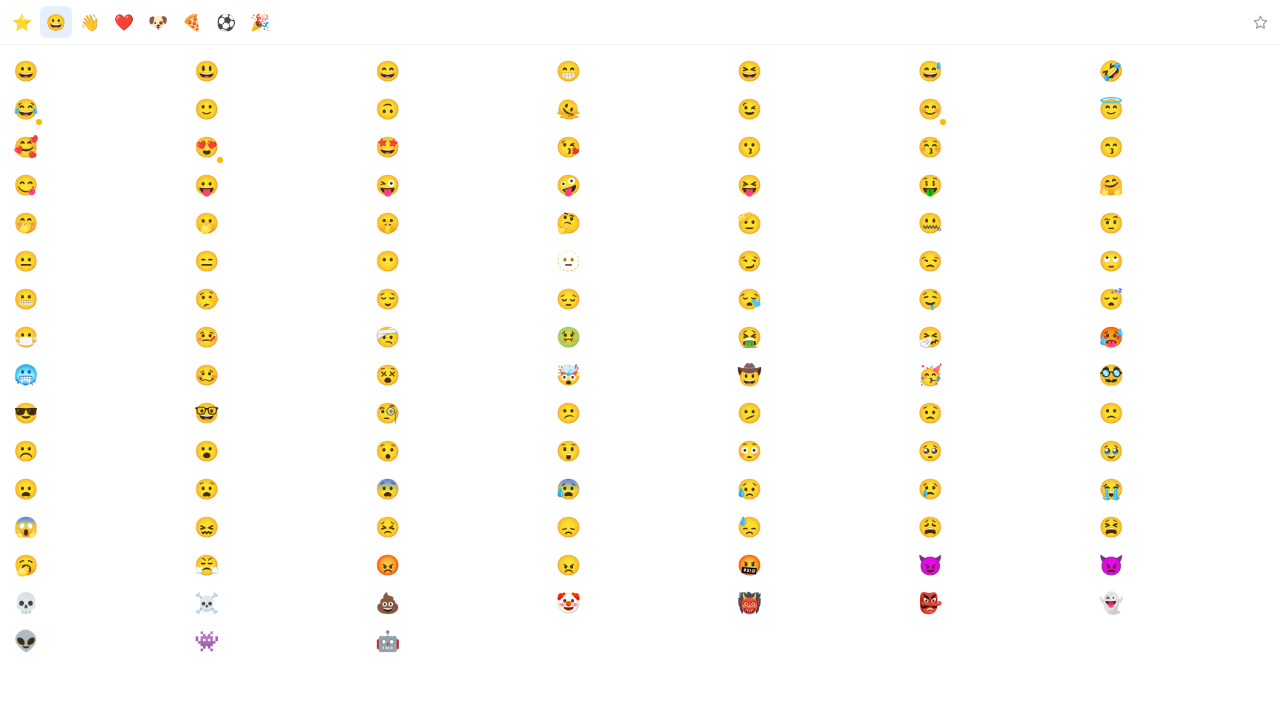
Scenario: EmojiPicker › switches to favorites tab and renders default favorite emojis
This screenshot has width=1280, height=720.
Click the button named "Emojis favoritos": (22, 22) 6,6 -> 38,38
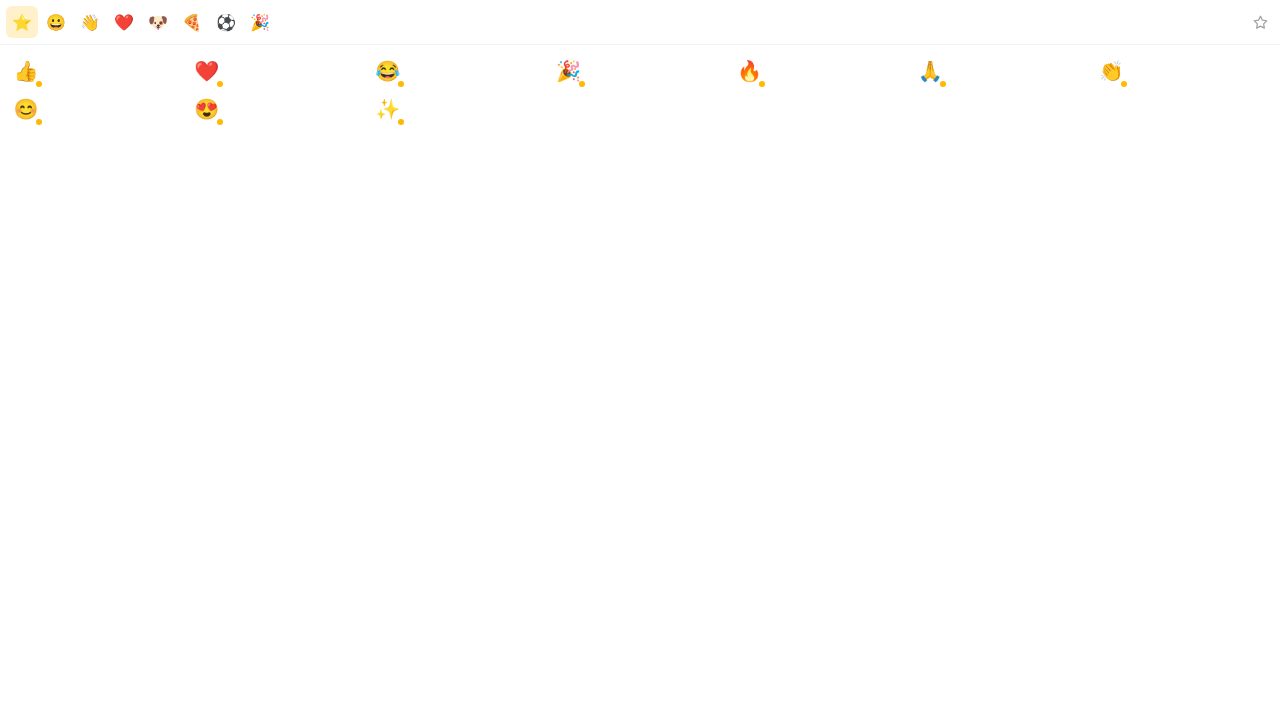
Expected: the 1st button "❤️" is shown, 108,6 -> 140,38
Now the button "👍" is shown, box 8,53 -> 44,89
